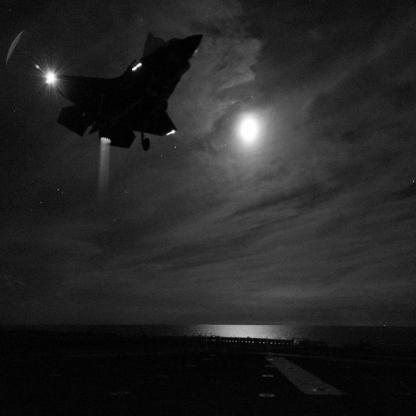F35: (47, 33, 205, 152)
